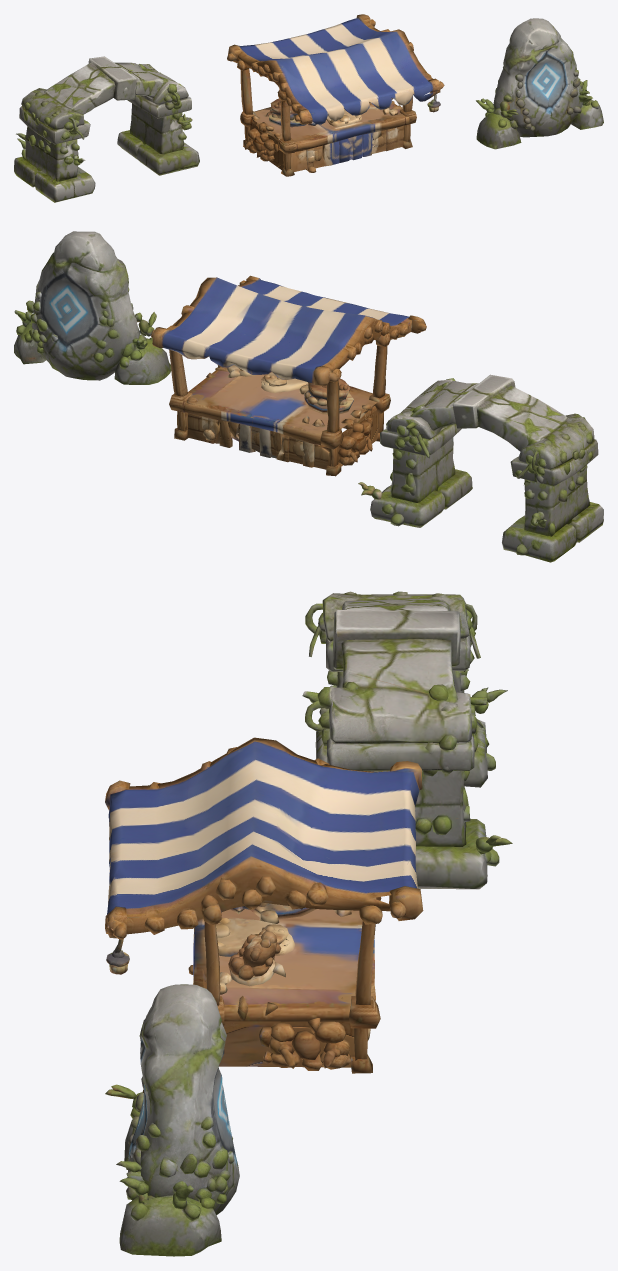
Rendered from mercado.glb.
3 views of the same model, one above another, from view 1: azimuth 30°, elevation 25°; view 2: azimuth 150°, elevation 25°; view 3: azimuth 270°, elevation 25° (orthographic). The views are drawn at different scales.
Parts seen in each view (by area): view 1: puesto_mercado, arco_ruina, roca_cristal; view 2: puesto_mercado, arco_ruina, roca_cristal; view 3: puesto_mercado, arco_ruina, roca_cristal.
Part boxes in pixels (<box>): puesto_mercado: <box>227,14,444,176</box>; arco_ruina: <box>14,56,199,202</box>; roca_cristal: <box>476,18,603,149</box>; puesto_mercado: <box>151,275,426,476</box>; arco_ruina: <box>358,374,603,562</box>; roca_cristal: <box>14,231,171,384</box>; puesto_mercado: <box>105,737,423,1073</box>; arco_ruina: <box>302,591,512,889</box>; roca_cristal: <box>105,984,239,1256</box>.
Bounding box in the file's own units: 1 × 0.219 × 0.3515.
Materials: 1 (1 with a texture image).
